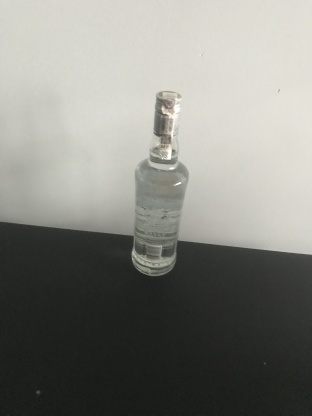nakretka: (152, 89, 183, 137)
